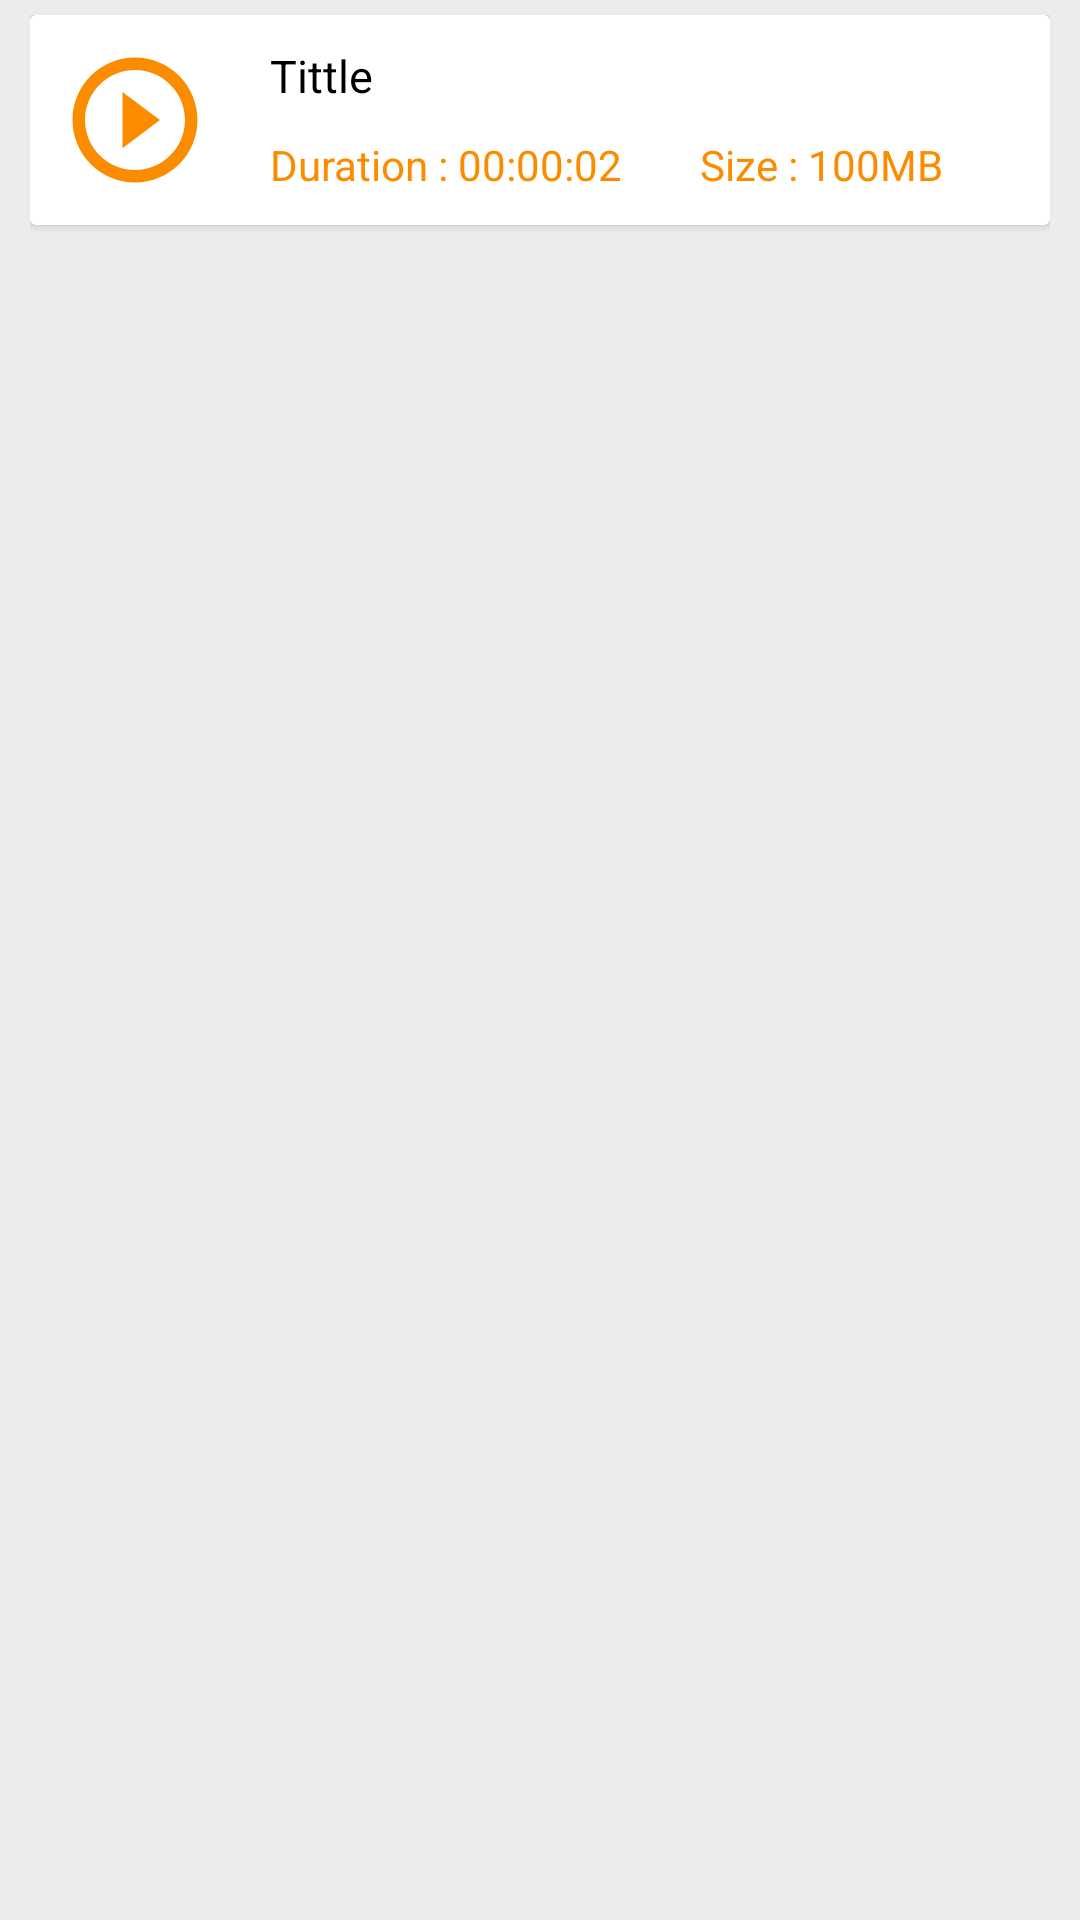

Screen size 1080*1920. Icon name, then its box in pixels as (x1, y1, x2, y2):
play circle: (72, 57, 198, 183)
